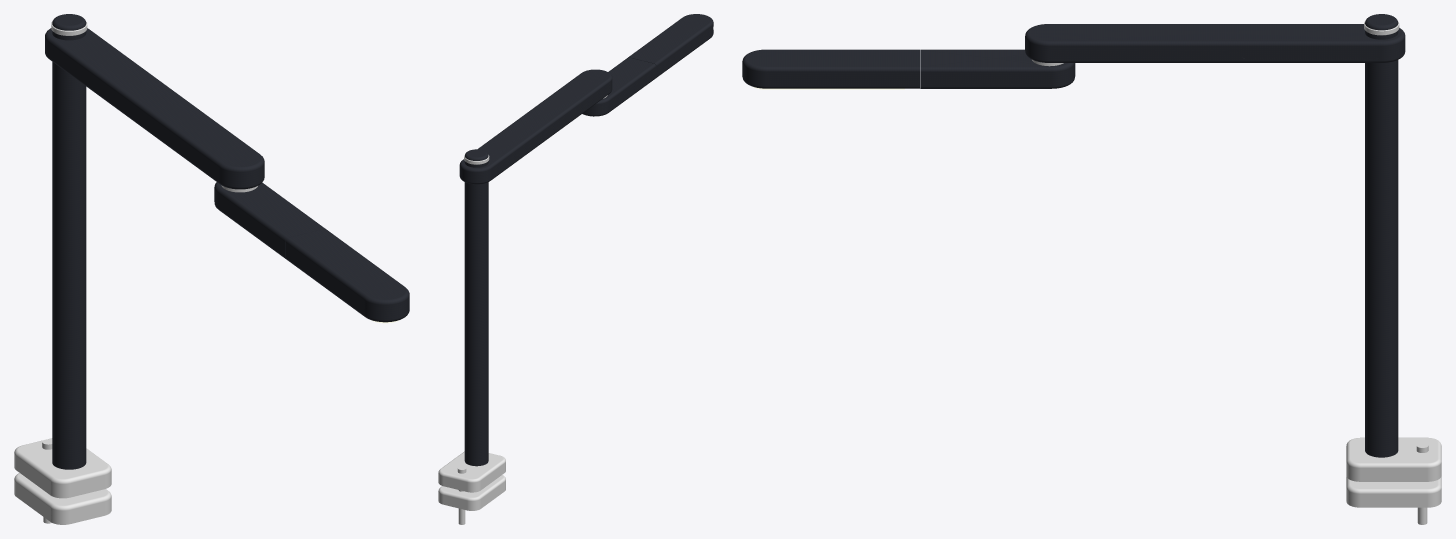
The model's file is wisp.glb.
The picture shows the model from 3 angles, left to right: view 1: azimuth 30°, elevation 25°; view 2: azimuth 150°, elevation 25°; view 3: azimuth 270°, elevation 25°; orthographic projection. The views are drawn at different scales.
Visible parts, largest first — view 1: Body6, Body10, Body9, Body8, Body4, Body3; view 2: Body6, Body10, Body9, Body8, Body4, Body3; view 3: Body10, Body6, Body9, Body8, Body4, Body3.
Boxes of the visible parts, bbox=[...] form: Body6: bbox=[52, 14, 86, 469]; Body10: bbox=[45, 28, 264, 189]; Body9: bbox=[285, 229, 409, 322]; Body8: bbox=[214, 182, 325, 258]; Body4: bbox=[14, 438, 111, 498]; Body3: bbox=[14, 473, 111, 524]; Body6: bbox=[464, 149, 488, 466]; Body10: bbox=[459, 69, 612, 184]; Body9: bbox=[628, 14, 713, 77]; Body8: bbox=[582, 57, 656, 116]; Body4: bbox=[438, 451, 505, 492]; Body3: bbox=[438, 475, 505, 510]; Body10: bbox=[1025, 24, 1405, 62]; Body6: bbox=[1365, 14, 1398, 457]; Body9: bbox=[742, 49, 919, 88]; Body8: bbox=[920, 49, 1075, 88]; Body4: bbox=[1346, 437, 1441, 481]; Body3: bbox=[1346, 476, 1441, 507].
Bounding box in the file's own units: 0.07 × 0.584 × 0.7354.
3 materials, 1 textured.
